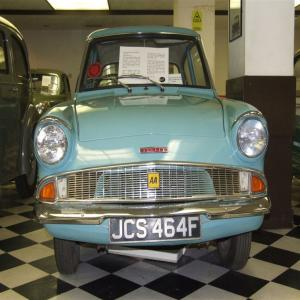Vehicle-registration-plate: (110, 215, 203, 243)
